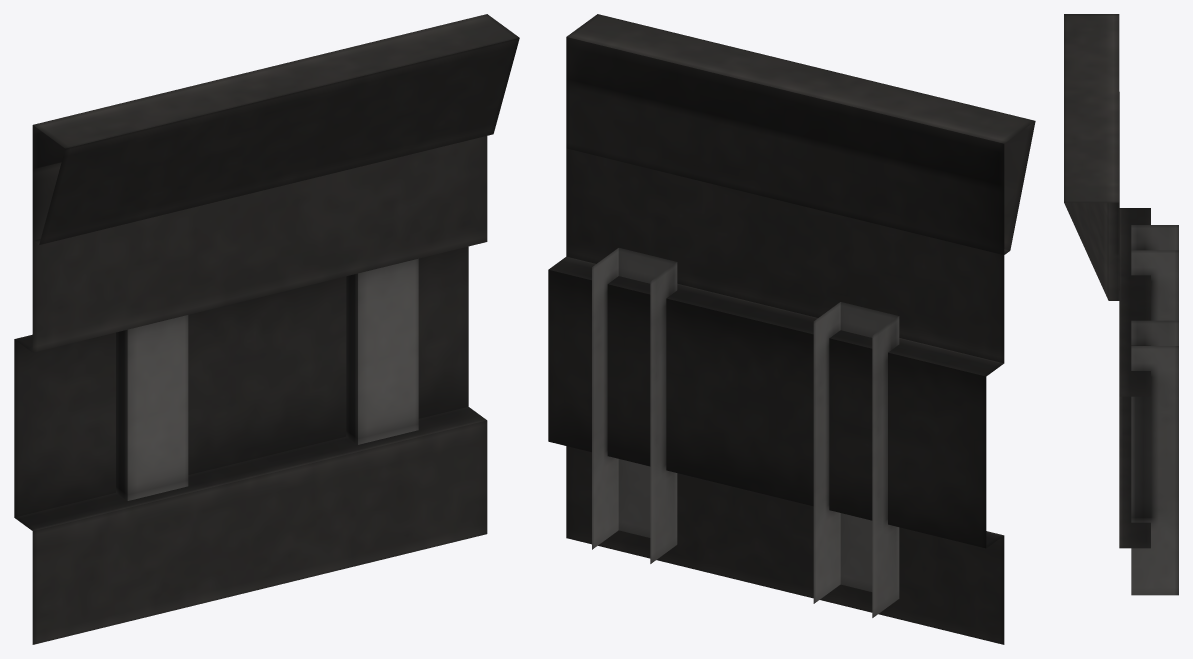
Rendered from B11_RoofMiddle.FBX.
3 views of the same model, side by side, from view 1: azimuth 30°, elevation 25°; view 2: azimuth 150°, elevation 25°; view 3: azimuth 270°, elevation 25° (orthographic). The views are drawn at different scales.
Parts seen in each view (by area): view 1: B11_RoofMiddle; view 2: B11_RoofMiddle; view 3: B11_RoofMiddle.
Boxes of the visible parts, bbox=[...] form: B11_RoofMiddle: bbox=[14, 14, 519, 644]; B11_RoofMiddle: bbox=[548, 14, 1035, 644]; B11_RoofMiddle: bbox=[1064, 14, 1178, 595].
Bounding box in the file's own units: 4 × 4.37 × 1.03.
